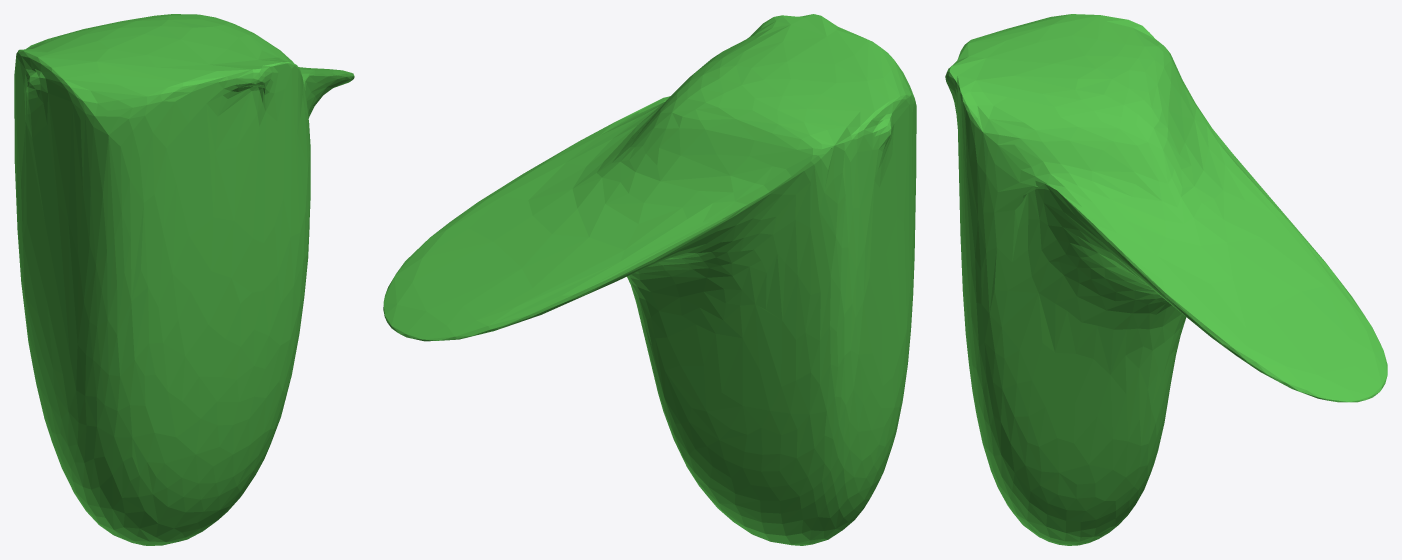
The picture shows the model from 3 angles, left to right: view 1: azimuth 30°, elevation 25°; view 2: azimuth 150°, elevation 25°; view 3: azimuth 270°, elevation 25°; orthographic projection. The views are drawn at different scales.
Visible parts, largest first — view 1: 302_Cube.1233; view 2: 302_Cube.1233; view 3: 302_Cube.1233.
Boxes of the visible parts, <box> form: 302_Cube.1233: <box>14,14,354,545</box>; 302_Cube.1233: <box>383,14,916,545</box>; 302_Cube.1233: <box>945,14,1387,545</box>.
Size of the model in its own units: 9.72 by 11.23 by 9.29.
